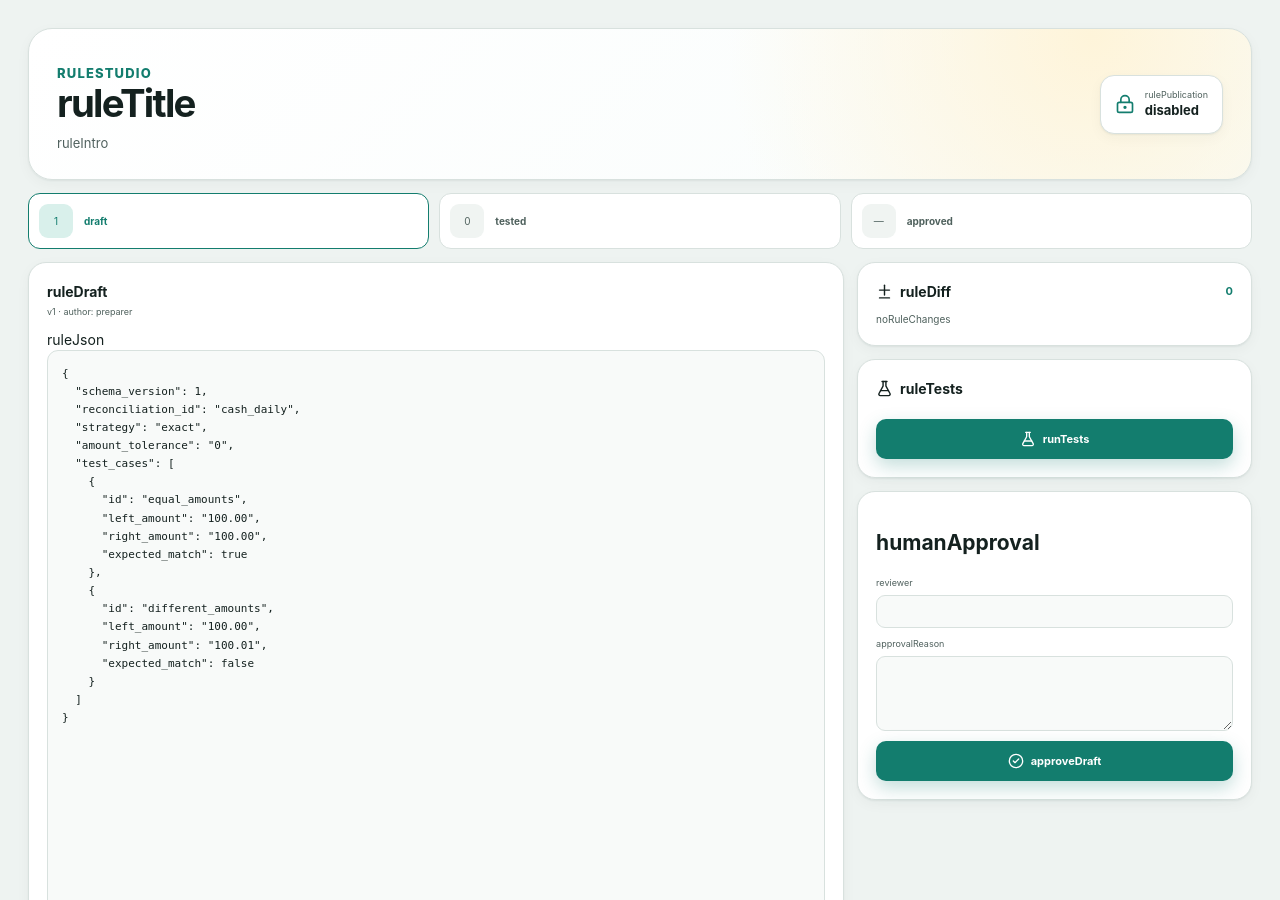
Test: RuleStudio › binds approval to a passed draft and revokes it on a new version
Click the button "runTests" at x=1055, y=439, box [876,419,1233,459]
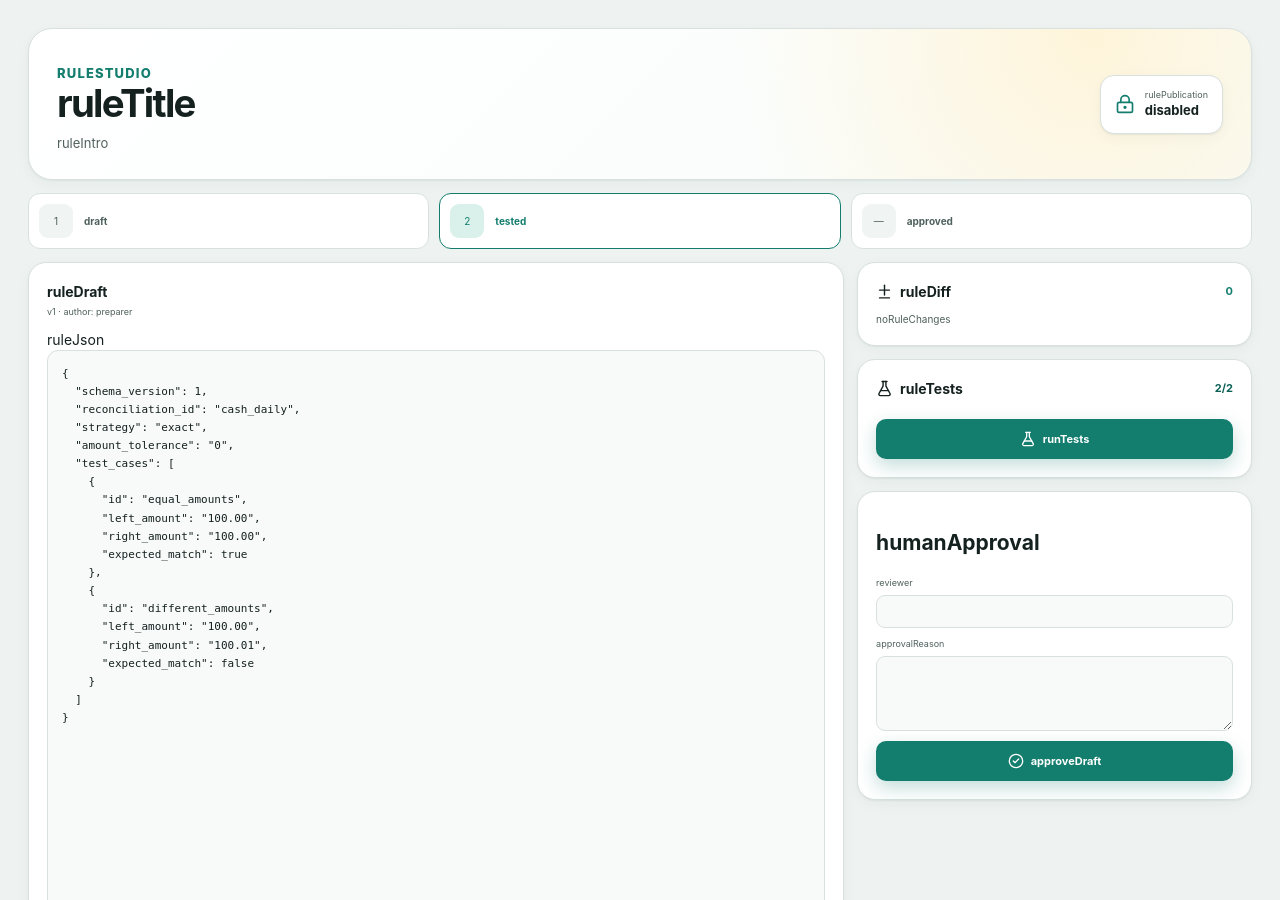
Expected: the text "2/2" is shown, [1215,380,1233,397]
Type "reviewer" into the field labelled "reviewer" at x=1055, y=612, box [876,595,1233,628]
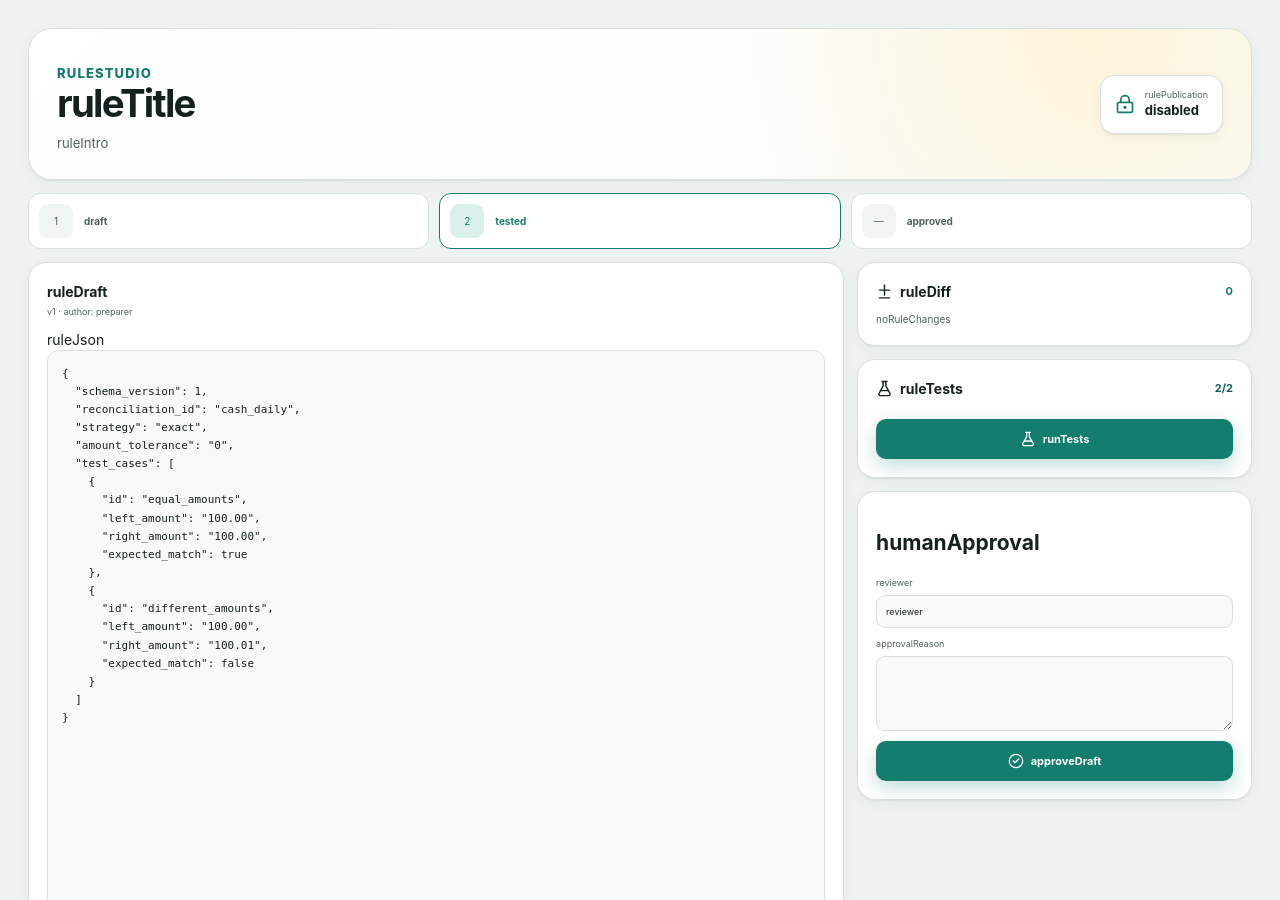
Type "Evidence reviewed" into the text box labelled "approvalReason" at x=1055, y=693, box [876,656,1233,731]
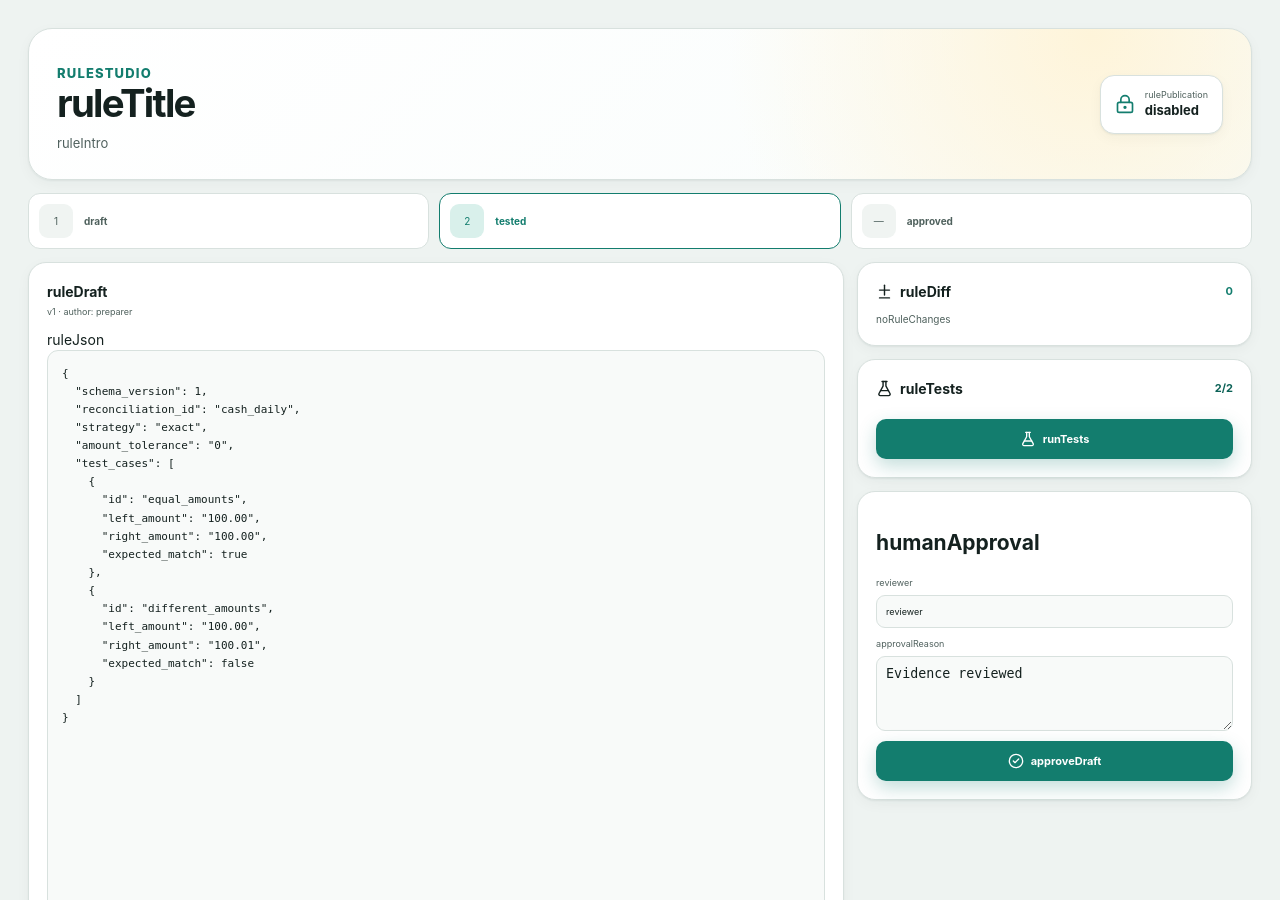
Click the button "approveDraft" at x=1055, y=761, box [876,741,1233,781]
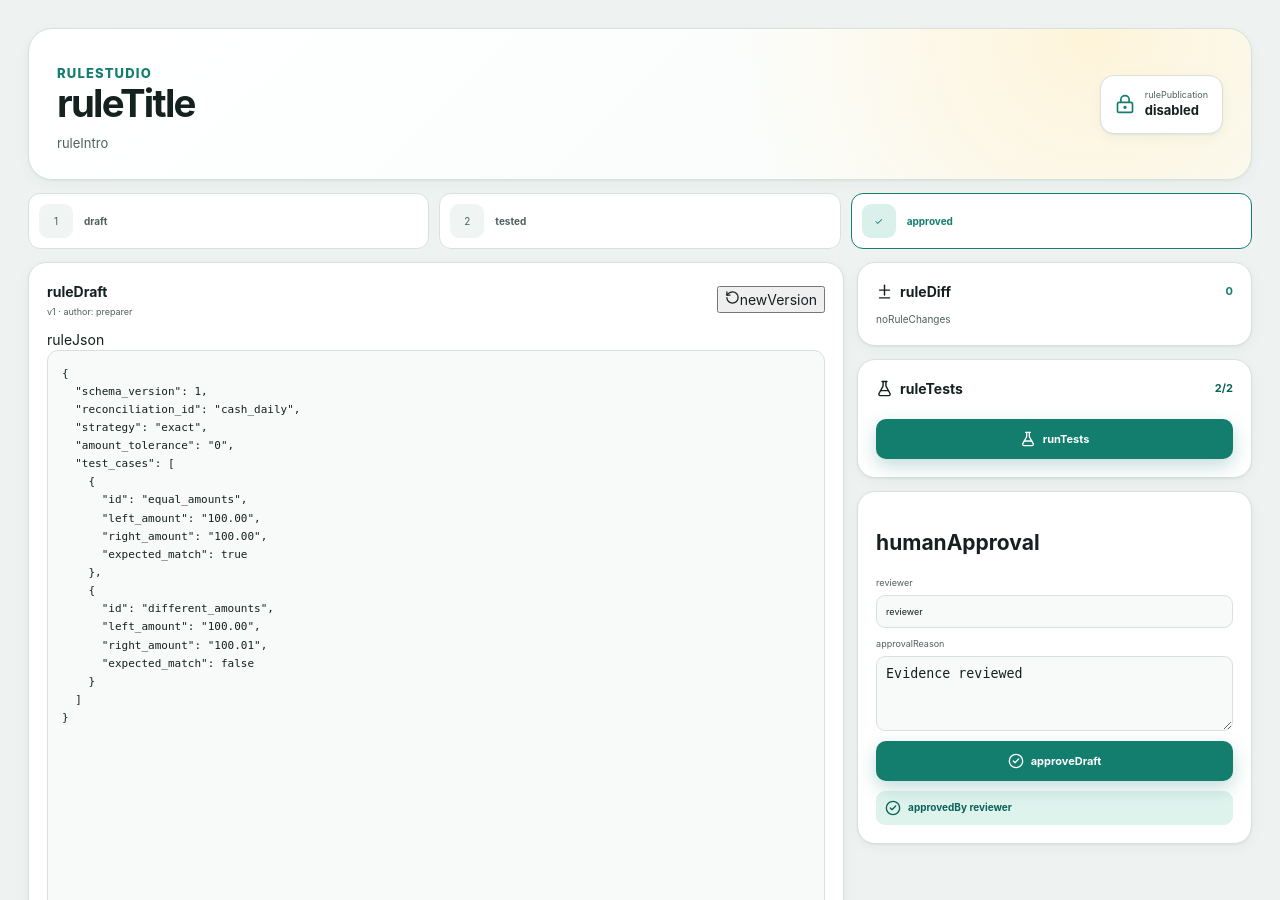
Expected: the message reads "approvedBy reviewer", [876,791,1233,825]
Click the button "newVersion" at x=771, y=300, box [717,286,825,313]
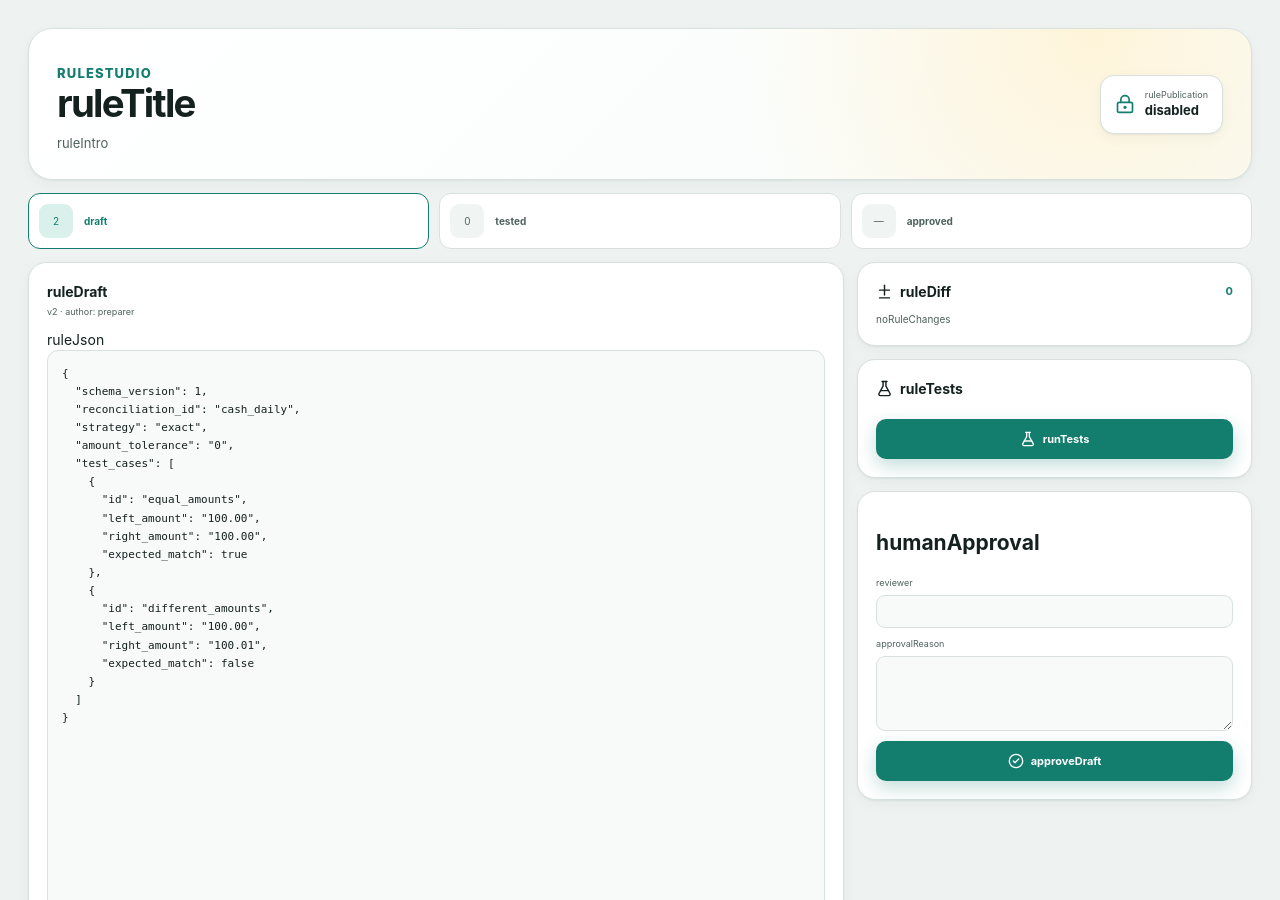
Expected: the message "approvedBy reviewer" is gone
Expected: the text "v2 · author: preparer" is shown, [47,305,134,318]
